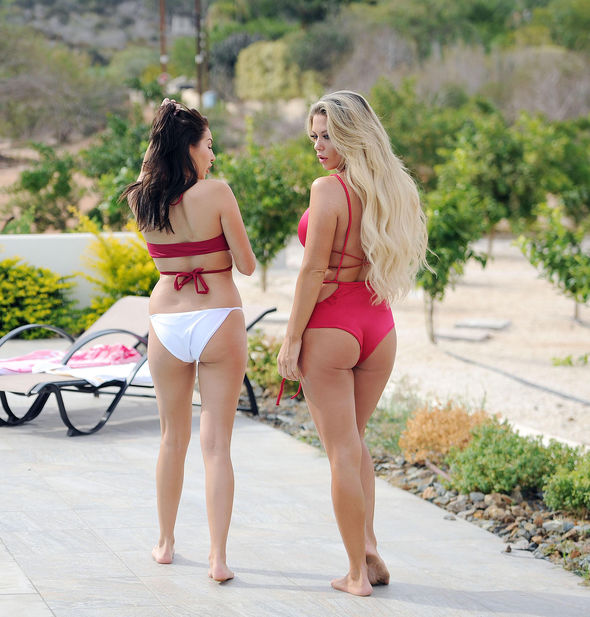Person: (275, 89, 436, 603), (105, 84, 266, 594)
